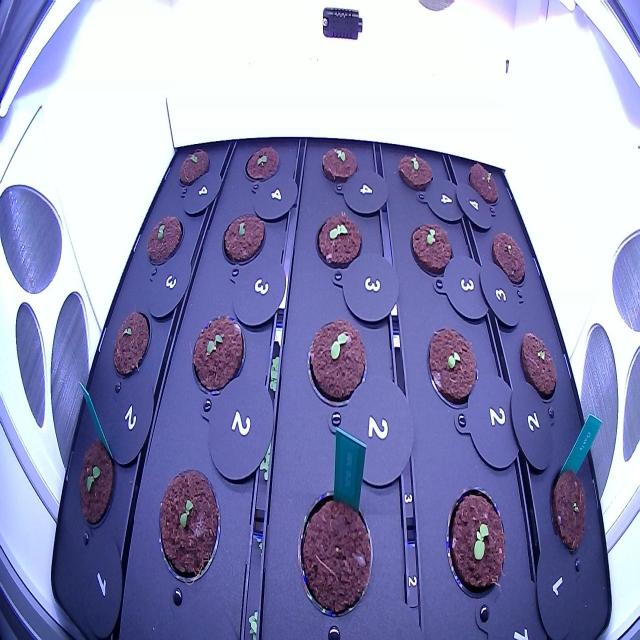germination: (151, 457, 226, 590), (439, 472, 511, 608), (300, 309, 370, 416), (184, 302, 249, 404), (424, 317, 484, 423), (545, 458, 597, 562), (71, 430, 119, 537), (404, 212, 460, 290), (310, 205, 366, 280), (108, 302, 154, 386), (516, 327, 560, 410), (484, 222, 530, 295), (217, 206, 268, 270), (142, 206, 188, 275), (390, 144, 438, 200), (314, 138, 362, 194), (238, 136, 284, 194), (463, 155, 504, 212), (170, 142, 214, 194)
pod: (287, 478, 376, 628)
